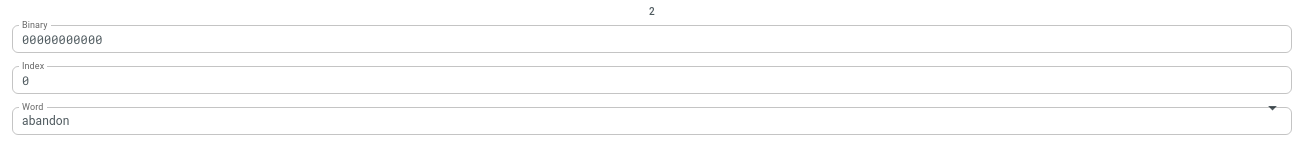
it: mnemonic group item › should be padded with zeros if not enough length
The image size is (1304, 160).
Clear the field labelled "Binary" at (652, 38), box [12, 24, 1292, 52]
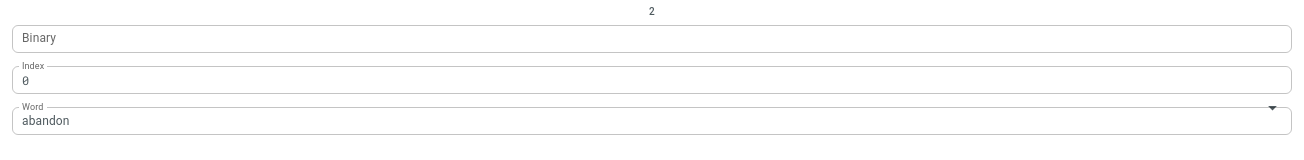
Leave the field labelled "Binary", box [12, 24, 1292, 52]
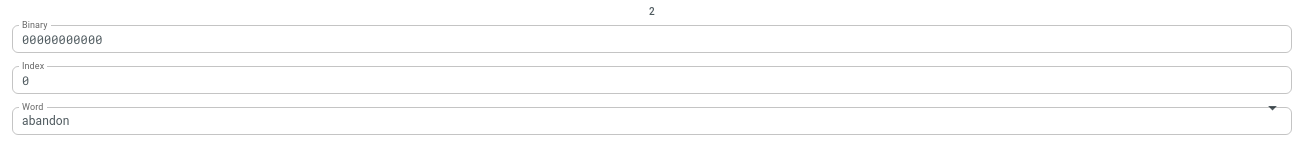
Result: the field labelled "Binary" holds "00000000000"
Replace the text in the field labelled "Binary" with "0101" at (652, 38), box [12, 24, 1292, 52]
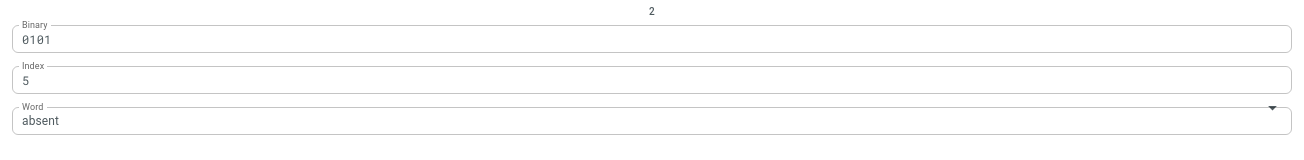
Leave the field labelled "Binary", box [12, 24, 1292, 52]
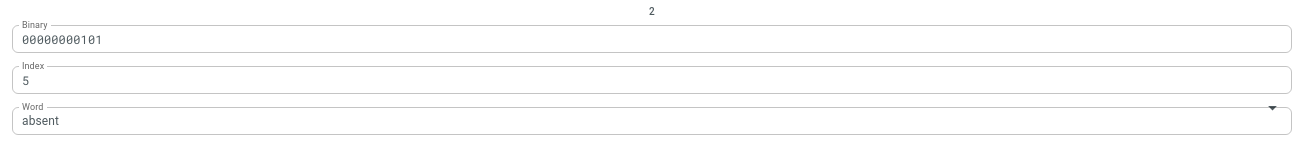
Result: the field labelled "Binary" holds "00000000101" at [12, 24, 1292, 52]
